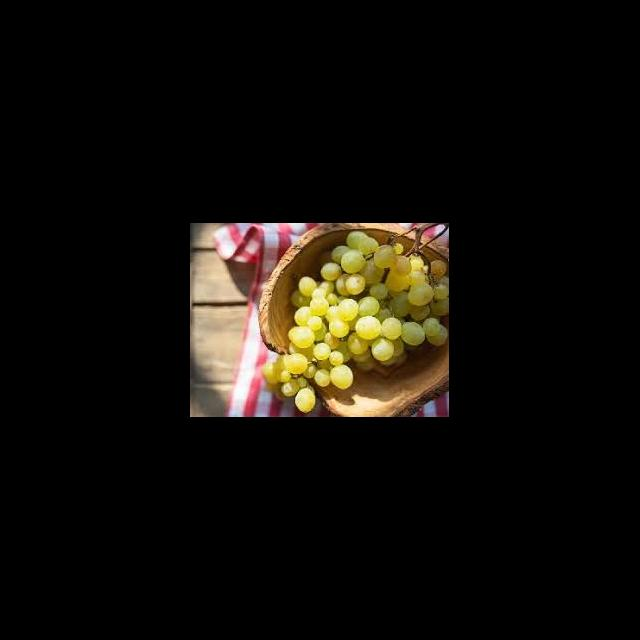grape: (262, 230, 448, 413)
